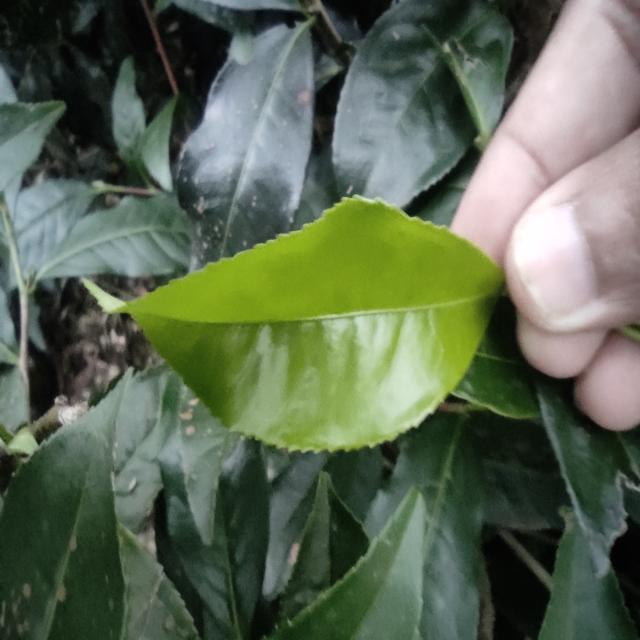Category C(4-7 days): (92, 173, 520, 485)
